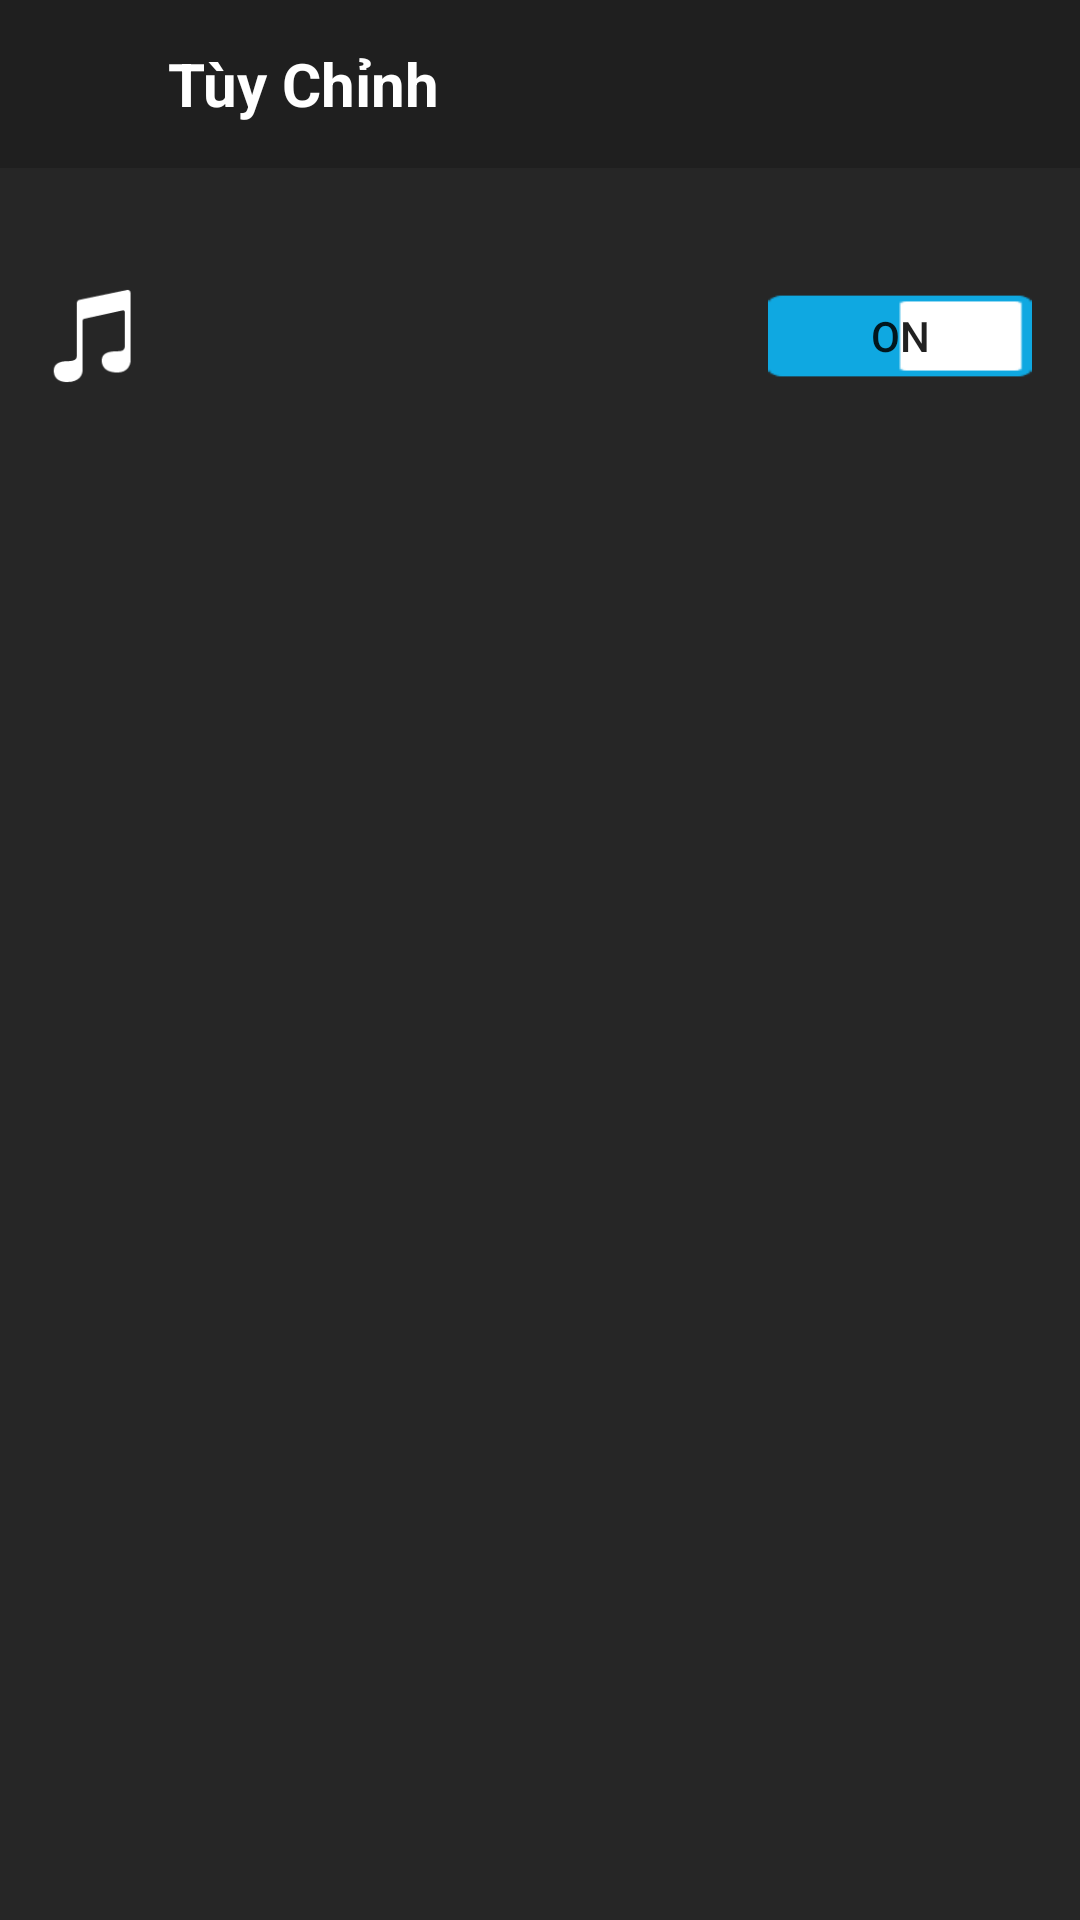

Icon bounding boxes for this 1080 × 1920 phone screenshot, format (x1, y1, x2, y2):
music: (53, 290, 131, 382)
